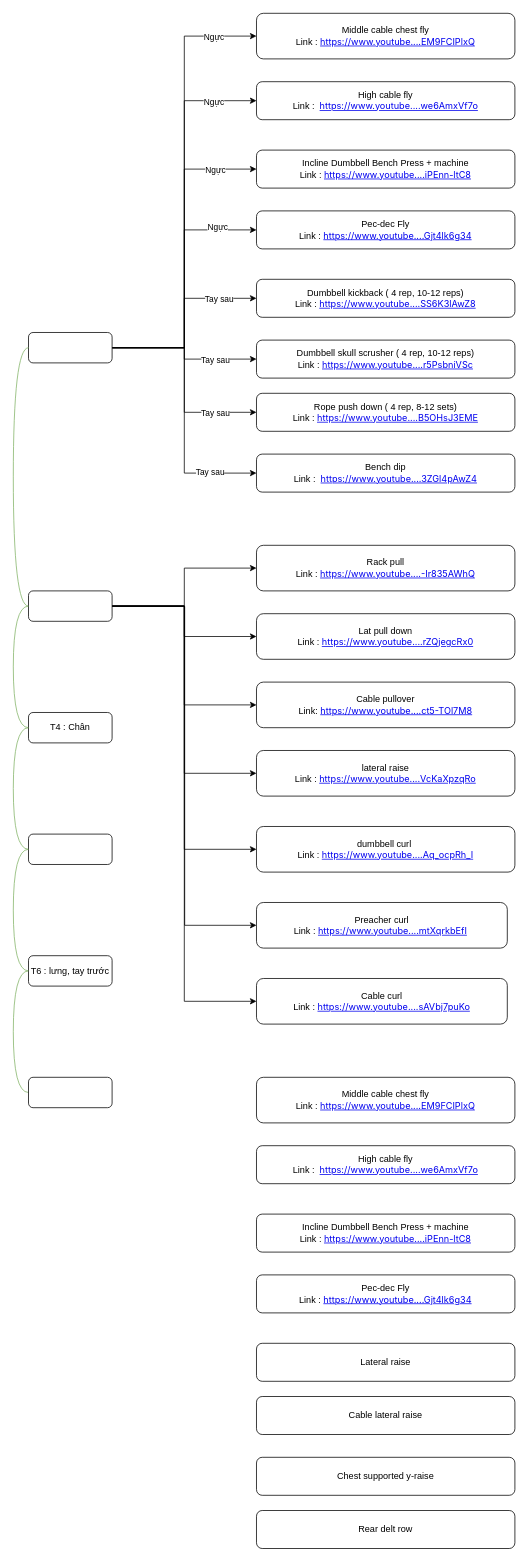
Some shapes in this 528 by 1562 pixel diagram are drawn without their labels. The centre of each missing label's shape, as x and y in pixels:
"T2 : Ngực, tay sau" goes at (70,347).
"T3 : Lưng, tay trước" goes at (70,605).
"T5 : Ngực, vai" goes at (70,848).
"T7 : Cardio" goes at (70,1092).
